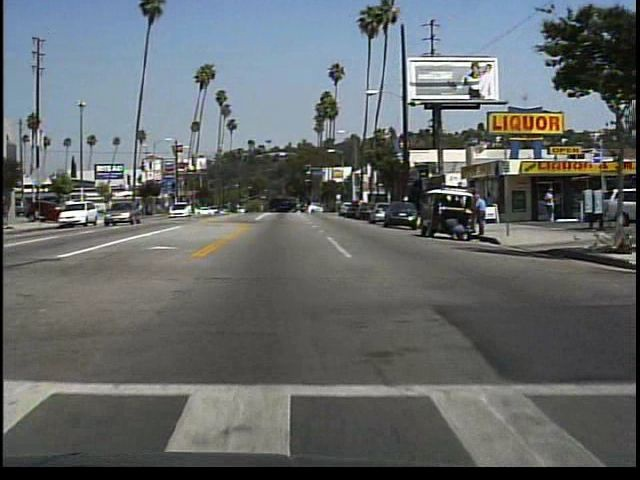person: (473, 190, 493, 240), (444, 215, 467, 243), (543, 186, 558, 227), (1, 195, 15, 226)
